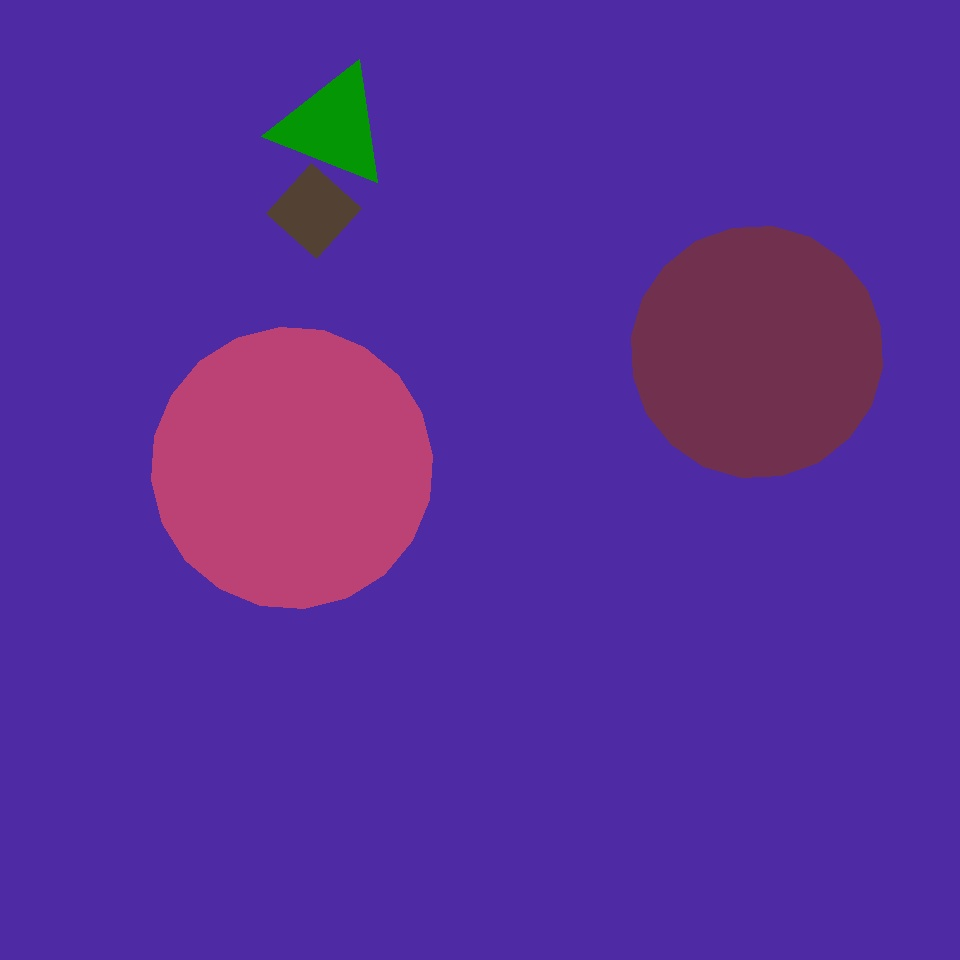circle: (516, 755, 639, 885), (136, 533, 267, 646), (275, 65, 391, 188)
square: (690, 702, 930, 942), (72, 577, 293, 798), (266, 164, 362, 258)
triangle: (151, 328, 432, 608), (632, 226, 882, 478)
